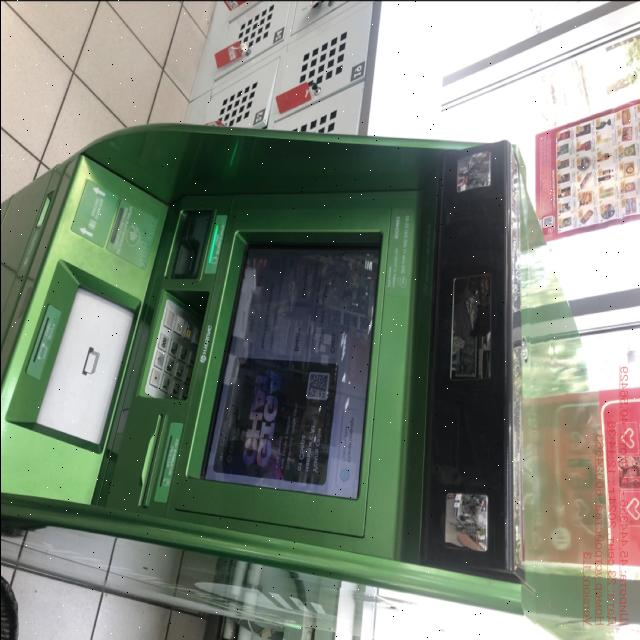bank: (0, 120, 620, 640)
